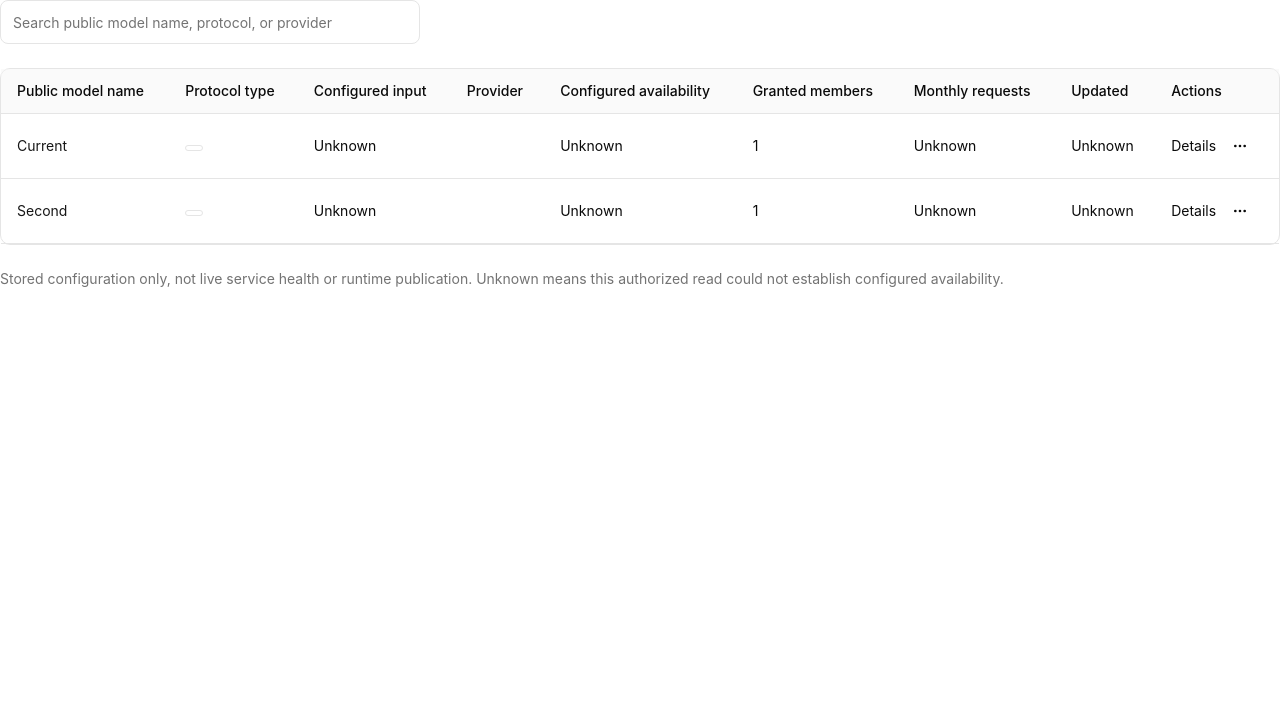
Test: reversible Model lifecycle review › uses the existing list action cell without reading lifecycle per row
The image size is (1280, 720).
Click the button named "Actions for Current" at [1240, 146], box [1224, 126, 1256, 166]
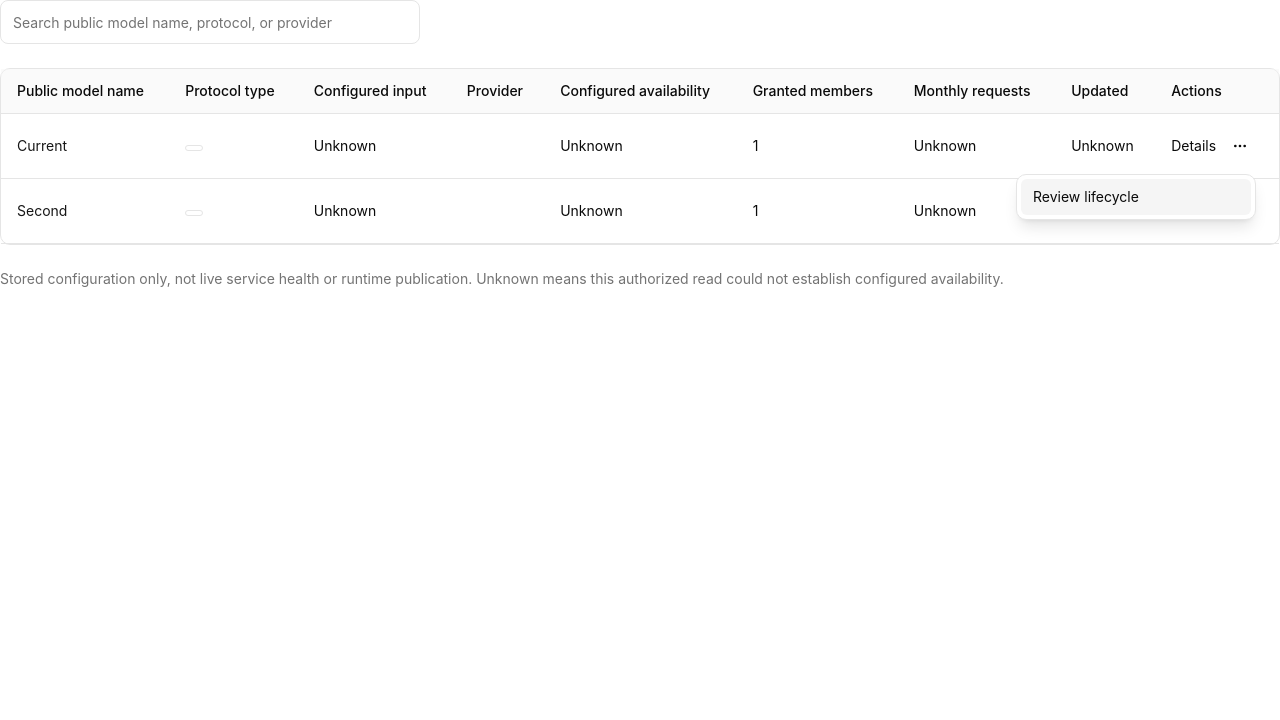
Check: the menu item "Review lifecycle" is shown
Click the menu item "Review lifecycle" at [1136, 197], box [1021, 179, 1251, 215]
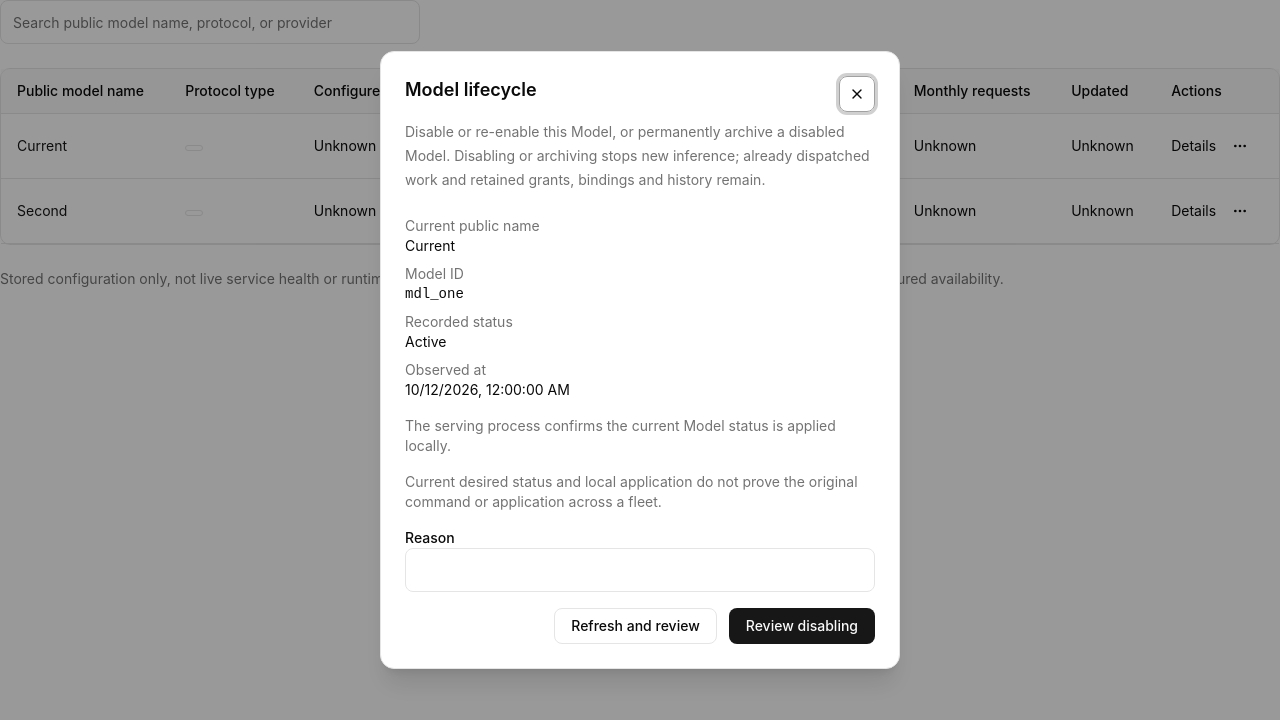
Check: the dialog shows "Observed at", box [405, 361, 486, 378]
